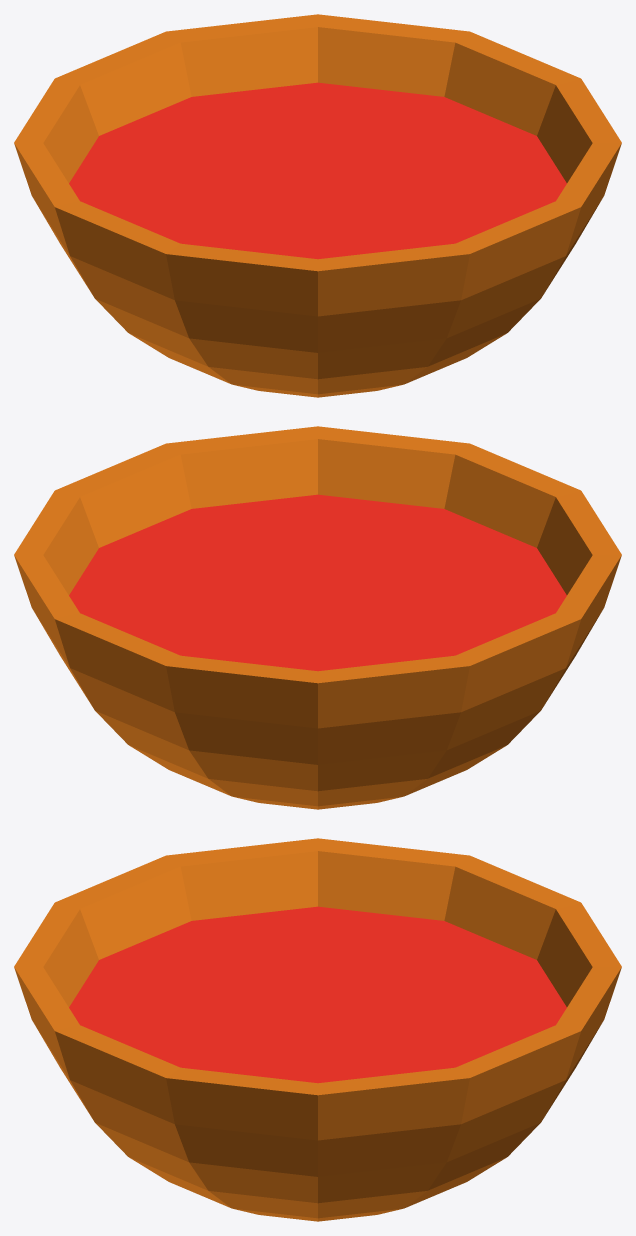
The model's file is Soap_Plate_02.fbx.
3 renders of one model, top to bottom at view 1: azimuth 30°, elevation 25°; view 2: azimuth 150°, elevation 25°; view 3: azimuth 270°, elevation 25°, orthographic.
Visible parts, largest first — view 1: Soap_Plate_02_LOD0; view 2: Soap_Plate_02_LOD0; view 3: Soap_Plate_02_LOD0.
Boxes of the visible parts, x1,y1,x2,y2 form: Soap_Plate_02_LOD0: (14,14,621,397); Soap_Plate_02_LOD0: (14,426,621,809); Soap_Plate_02_LOD0: (14,838,621,1221).
Size of what is drawn, in the model's own units: 0.2799 by 0.1149 by 0.2799.
